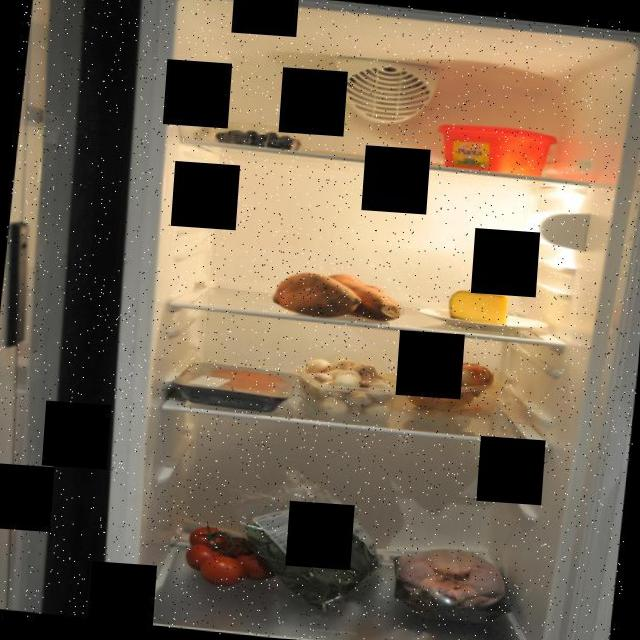Carne pollo: (386, 539, 520, 631)
Carne vacuno: (198, 360, 286, 404)
Cebolla: (398, 352, 492, 414)
Champiñones: (288, 352, 406, 428)
Mantequilla: (434, 119, 565, 178)
Queso: (444, 284, 514, 330)
Tomate: (180, 516, 286, 592)
blueberries: (206, 117, 309, 150)
spinach: (220, 492, 390, 618)
sweet_potato: (264, 262, 411, 330)
